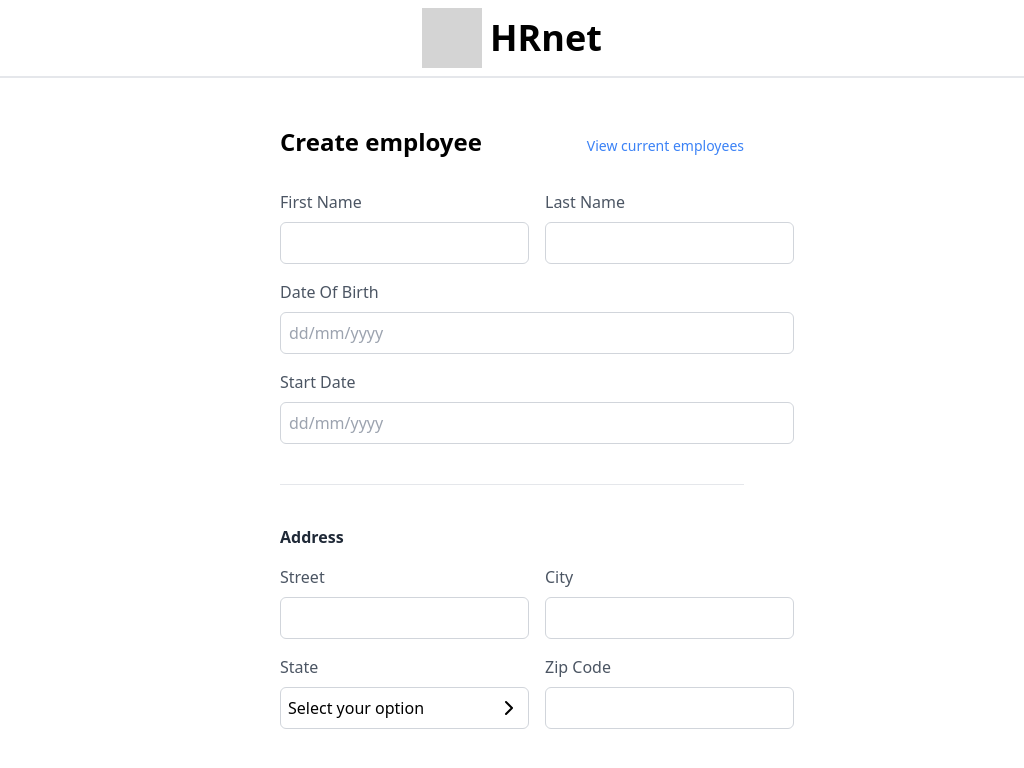
Page Home › should navigate to the current employees page when the link is clicked
This screenshot has width=1024, height=768.
Click the link "View current employees": (665, 146) [587,136,744,156]
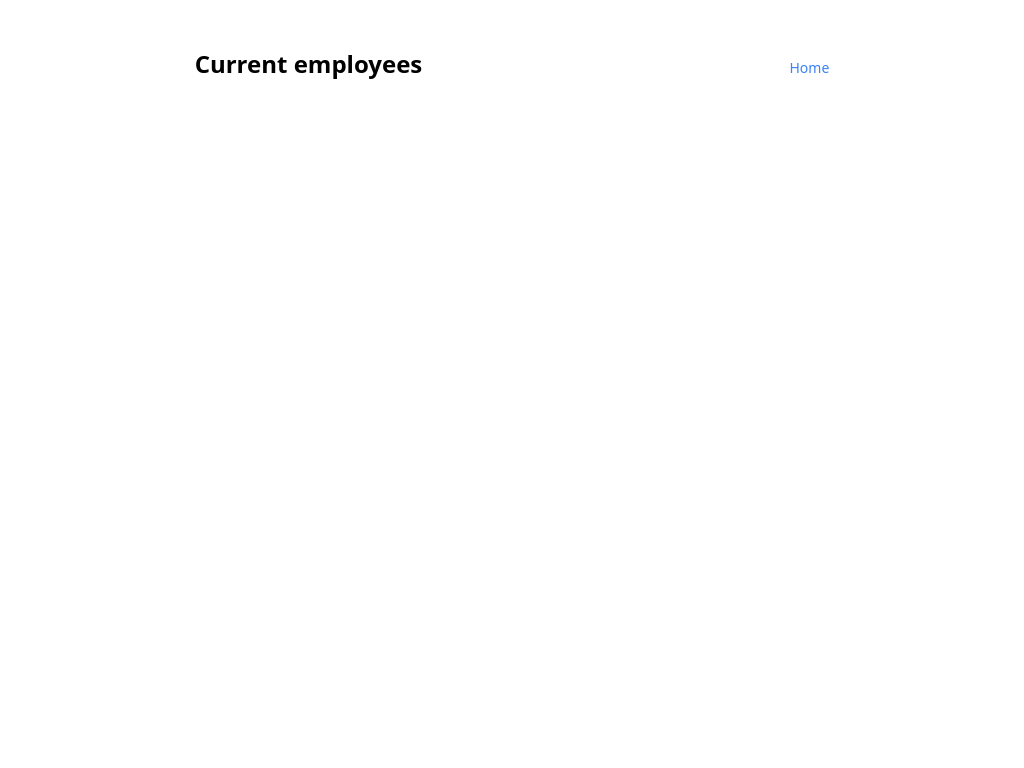
Check: the link "Home" is shown, box [790,58,829,78]
Check: the picture is gone
